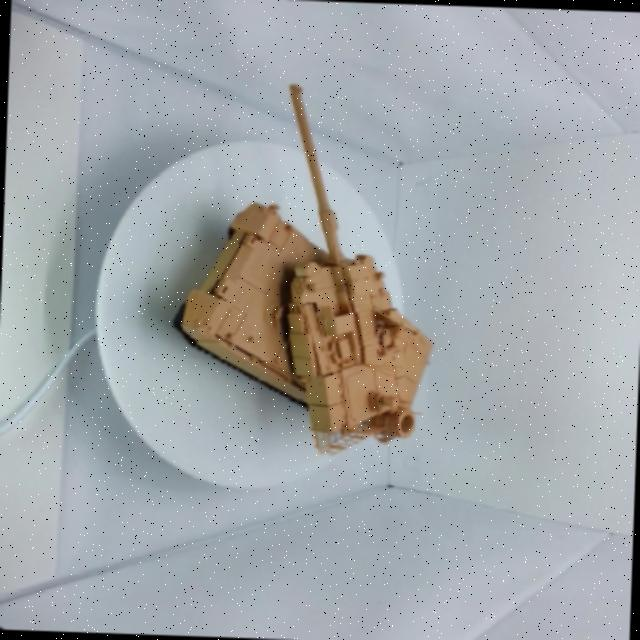korea tank: (145, 68, 470, 471)
